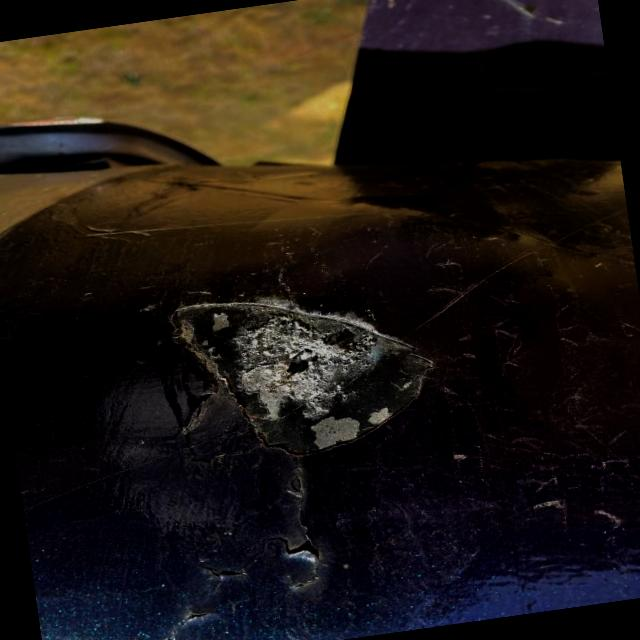crack: (185, 524, 336, 594), (106, 602, 239, 640)
dent: (170, 268, 453, 481)
